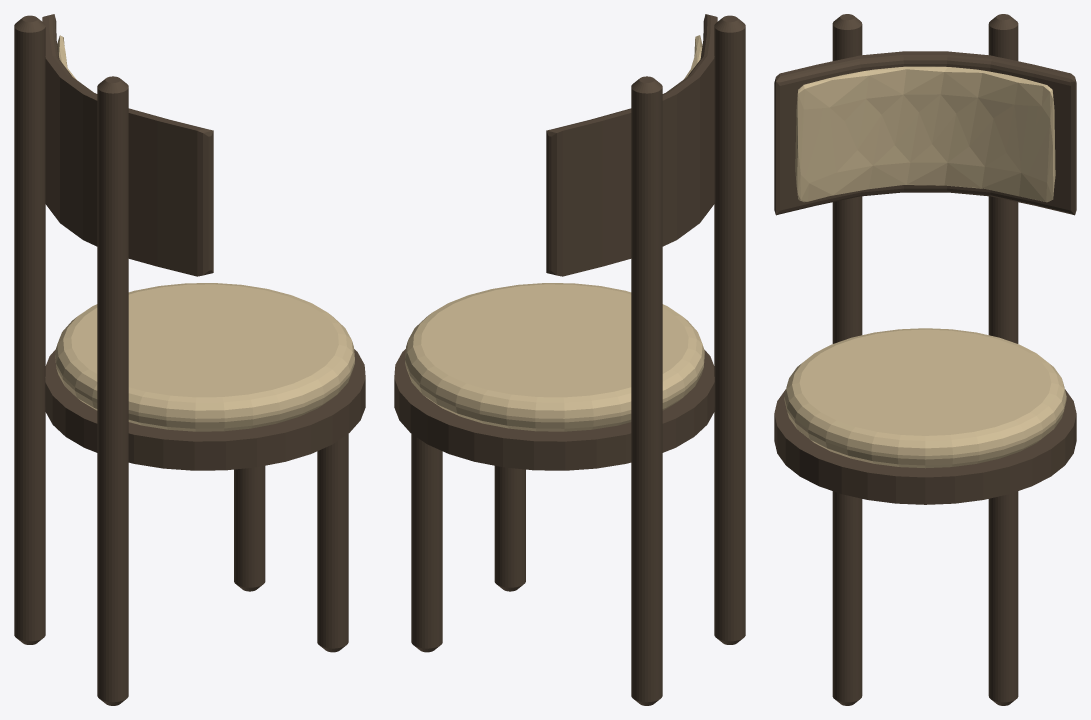
File: Chair (1).fbx
3 views of the same model, side by side, from view 1: azimuth 30°, elevation 25°; view 2: azimuth 150°, elevation 25°; view 3: azimuth 270°, elevation 25° (orthographic). The views are drawn at different scales.
Visible parts, largest first — view 1: Chair; view 2: Chair; view 3: Chair.
Boxes of the visible parts, box(x1,y1,x2,y2) form: Chair: box(14, 14, 365, 705); Chair: box(394, 14, 745, 705); Chair: box(774, 14, 1076, 705).
Size of the model in its own units: 411 by 854 by 400.
